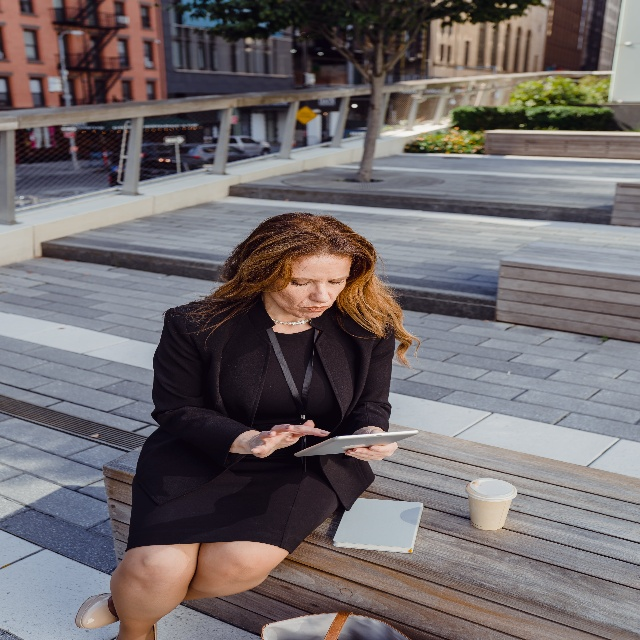Sin_guantes: (248, 420, 330, 458), (344, 428, 398, 461)
